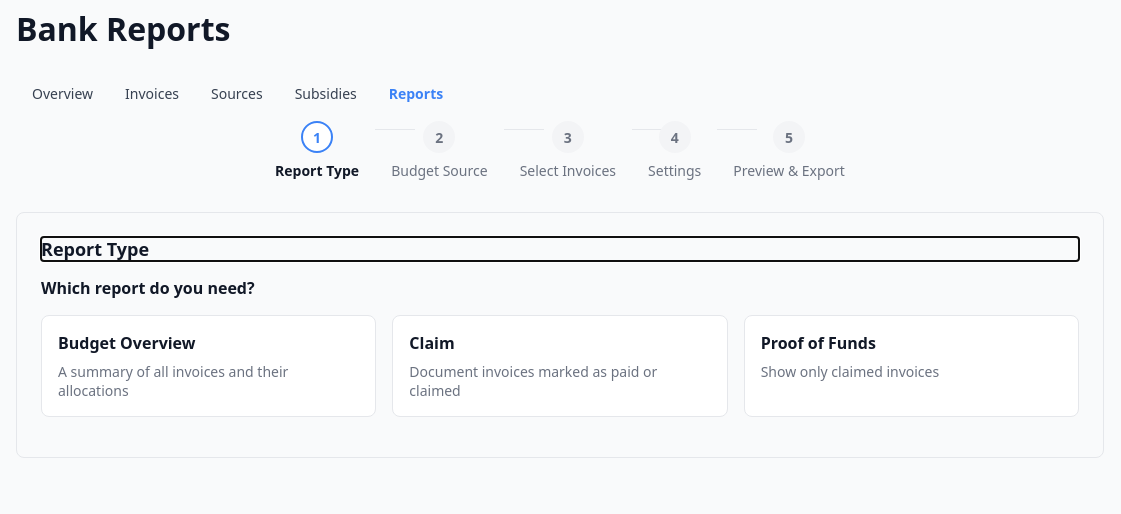
Test case: ReportWizardPage › shows a real, translated "Next" label once a use case is selected
expect the element named "Which report do you need?" is shown: met, box [41,315,1079,417]
Step 1. Click the radio button labelled "Claim Document invoices marked as paid or claimed" → x=560, y=366, box [392,315,728,417]
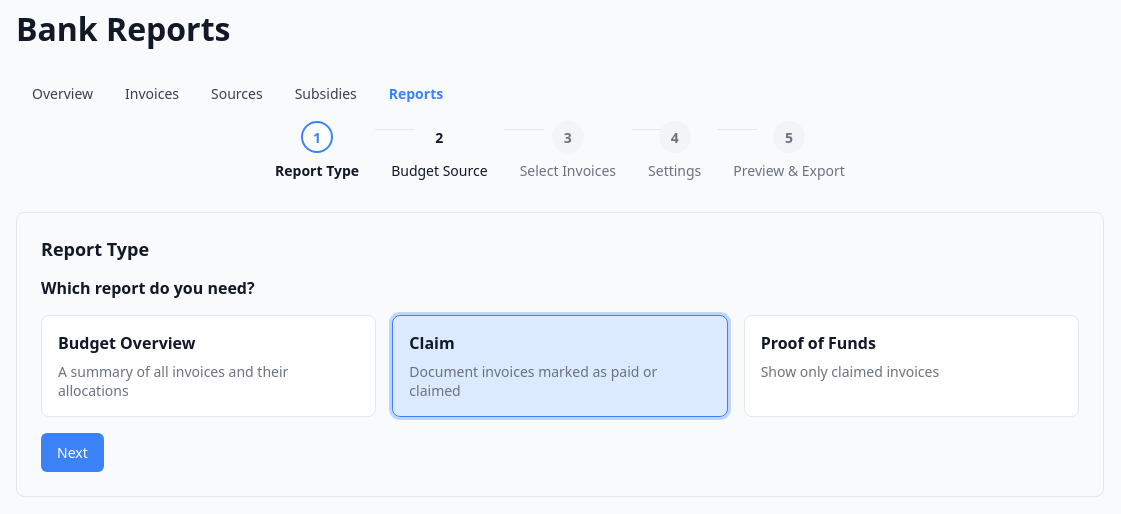
expect the button "Next" is shown: met
Step 2. Click the button "Next" → x=72, y=452, box [41,433,104,472]
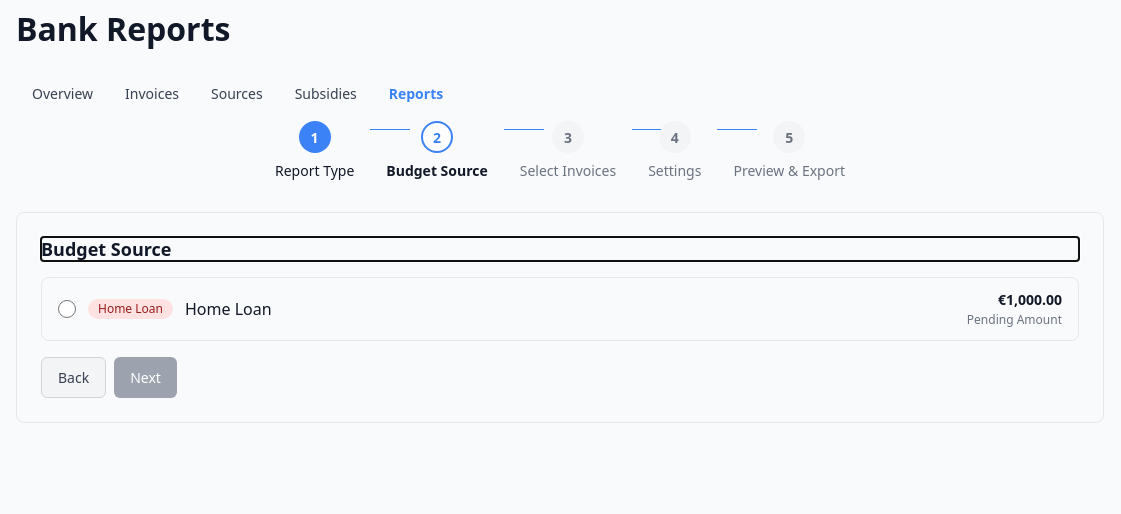
expect the button "Back" is shown: met, box [41,357,106,398]
